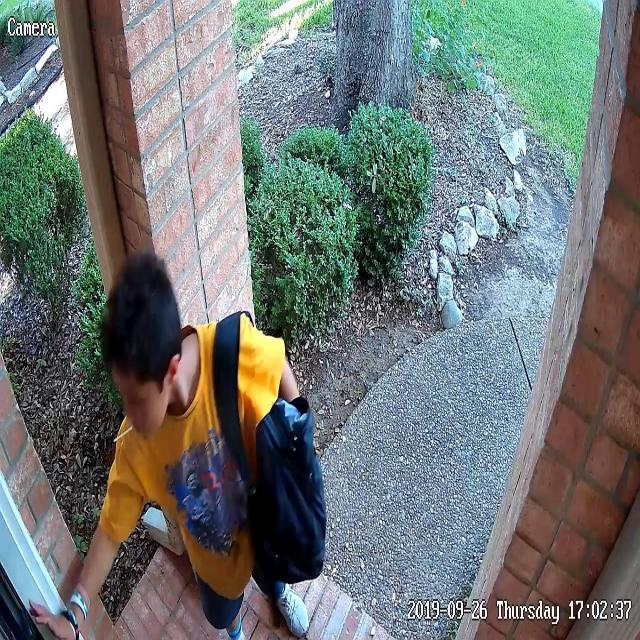NotFall: (0, 179, 395, 640)
